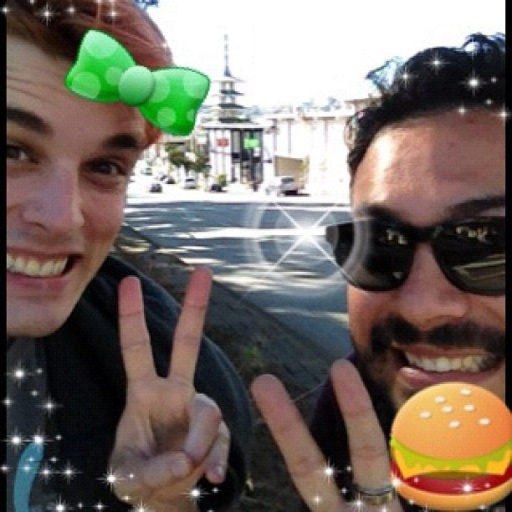hand: (250, 354, 406, 510), (96, 328, 233, 501)
